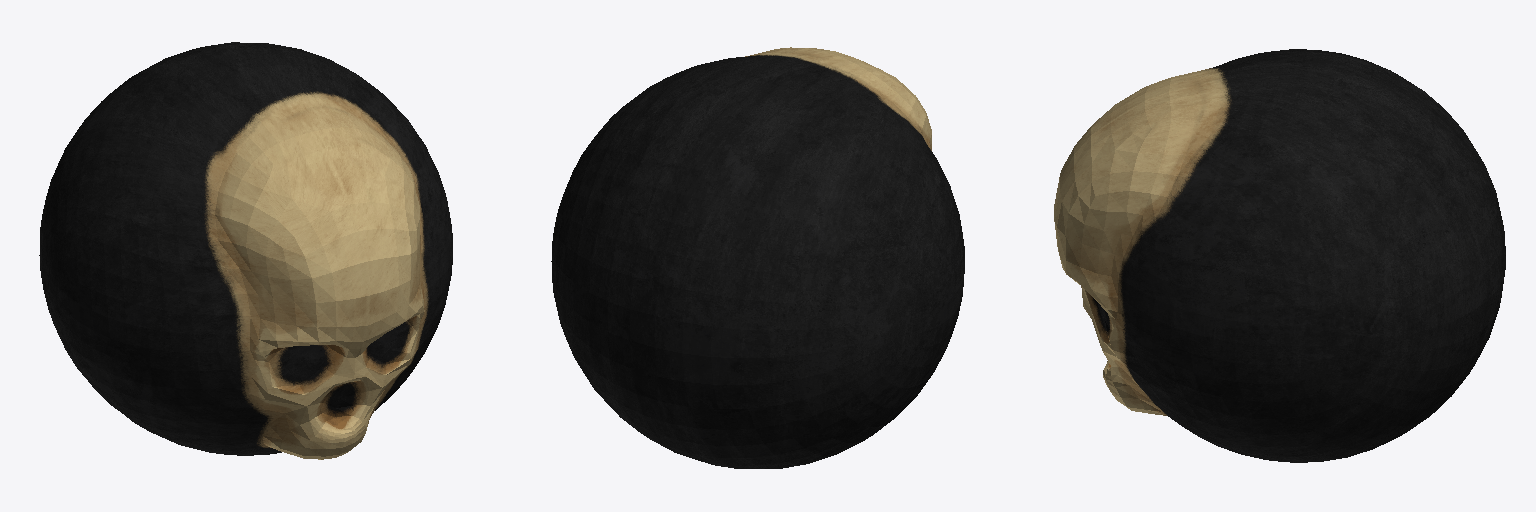
3 renders of one model, left to right at view 1: azimuth 30°, elevation 25°; view 2: azimuth 150°, elevation 25°; view 3: azimuth 270°, elevation 25°, orthographic.
Visible parts, largest first — view 1: Group58097; view 2: Group58097; view 3: Group58097.
Part boxes in pixels (x1,y1,x2,y2): Group58097: (39, 42, 452, 459); Group58097: (551, 47, 964, 468); Group58097: (1054, 49, 1505, 462).
Size of the model in its own units: 3.91 by 3.91 by 4.27.
Materials: 1 (1 with a texture image).